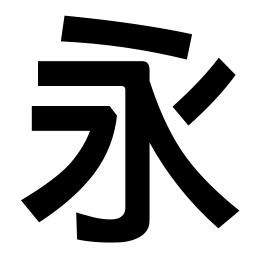D: (58, 11, 193, 52)
HSZ: (114, 57, 155, 96)
Hs: (34, 57, 89, 90)
Ne: (202, 197, 246, 231)
PNc: (151, 102, 197, 137)
PZe: (19, 187, 55, 224)
Ps: (207, 55, 240, 93)
SG: (73, 205, 153, 244)
Sm: (122, 161, 152, 191)
TPZ: (75, 102, 118, 154)
Ts: (28, 102, 55, 136)
